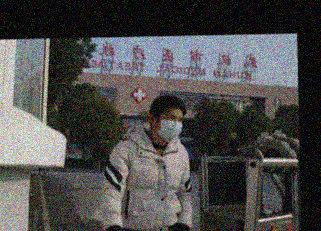with_mask: (155, 113, 184, 140)
